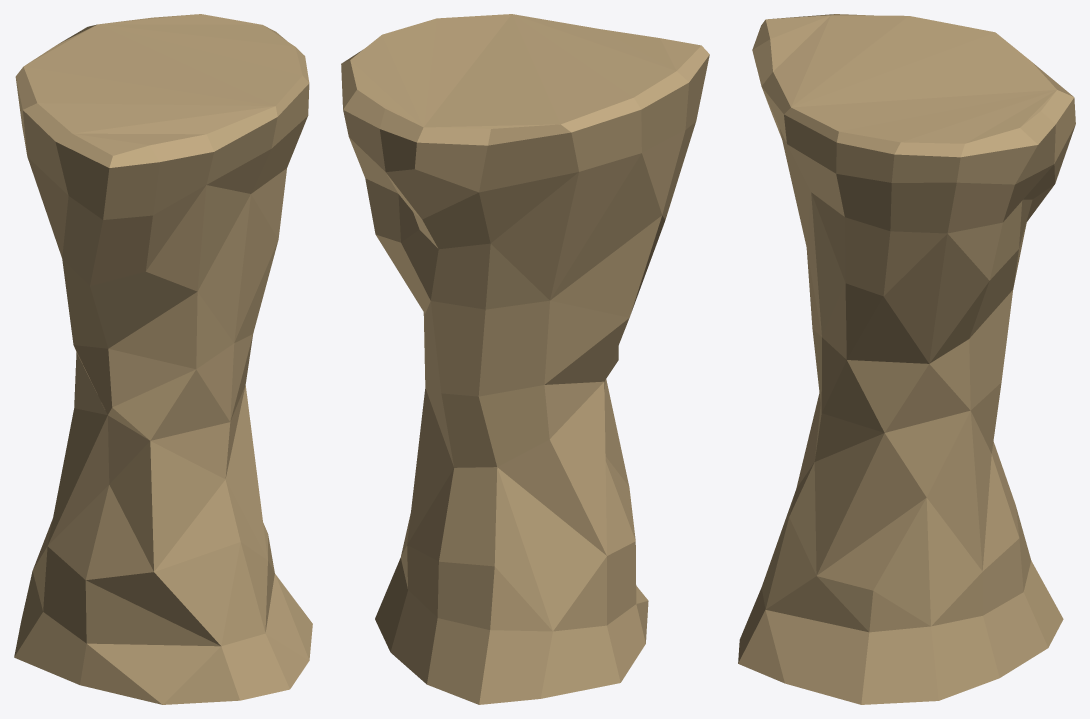
Rendered from Pillar-A07.fbx.
The picture shows the model from 3 angles, left to right: view 1: azimuth 30°, elevation 25°; view 2: azimuth 150°, elevation 25°; view 3: azimuth 270°, elevation 25°; orthographic projection.
Parts seen in each view (by area): view 1: Pillar-A07; view 2: Pillar-A07; view 3: Pillar-A07.
Part boxes in pixels (x1=…): Pillar-A07: x1=14, y1=14, x2=312, y2=704; Pillar-A07: x1=341, y1=14, x2=709, y2=704; Pillar-A07: x1=738, y1=14, x2=1075, y2=704.
Bounding box in the file's own units: 208 × 214 × 397.
